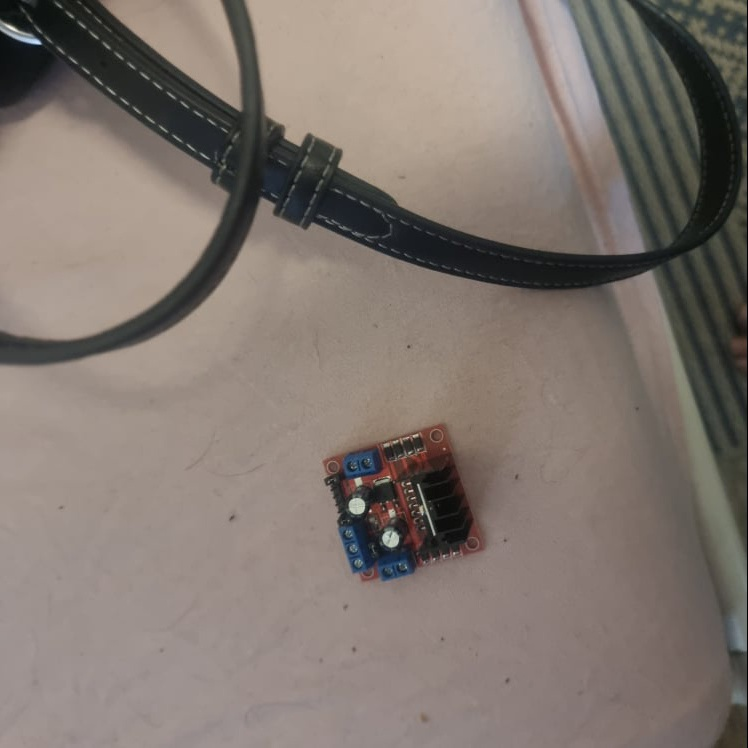MOTOR: (322, 421, 489, 585)
